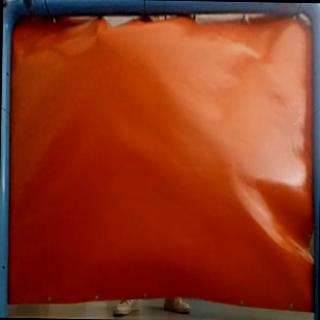Hit-hRxx: (90, 27, 108, 43)
